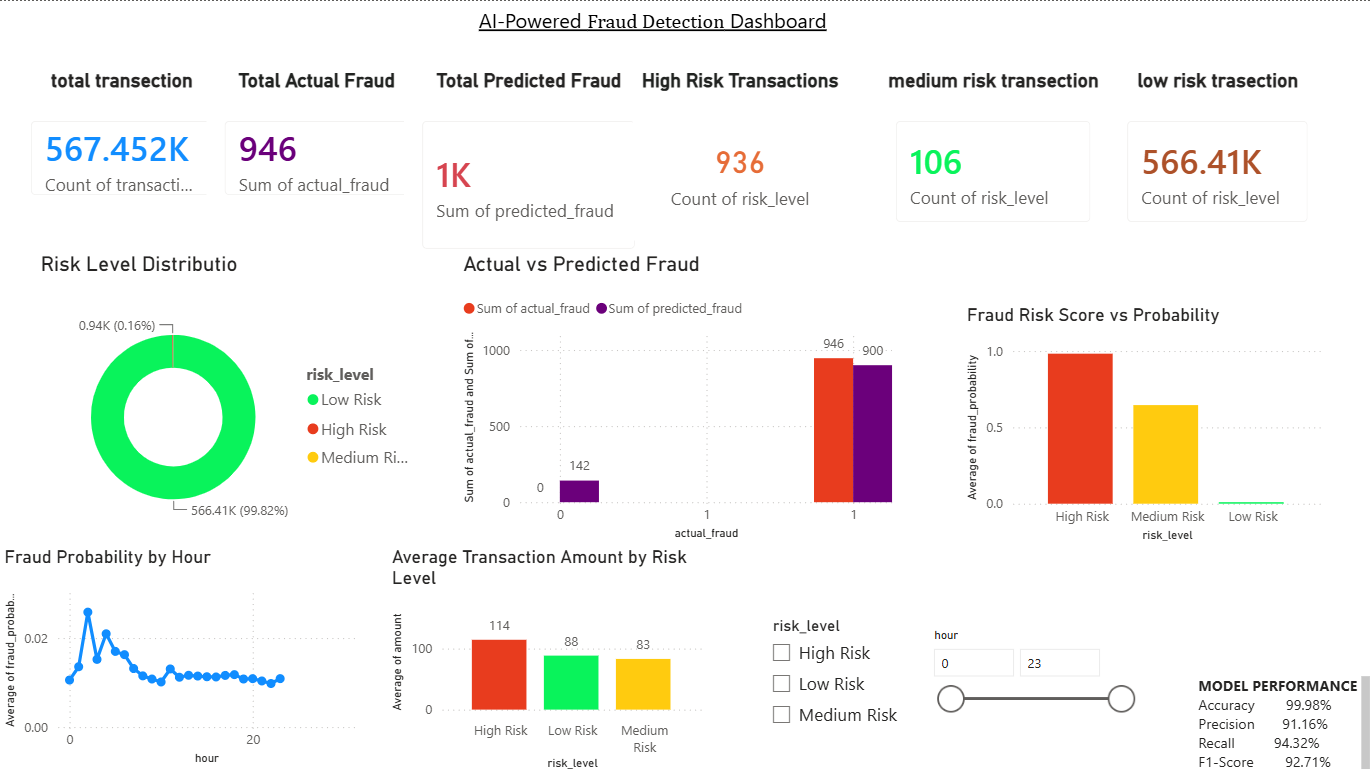

Layout of this report page (visuals, bound fields, positions):
{"tool":"powerbi","page":{"name":"Page 1","canvas":[1280,720],"ordinal":0},"visuals":[{"type":"cardVisual","title":"total transection","fields":{"Data":["CountNonNull(fraud_detection transactions.transaction_id)"]},"box":[12.5,62.3,202.9,135.3],"z":0},{"type":"cardVisual","title":"Total Actual Fraud","fields":{"Data":["Sum(fraud_detection transactions.actual_fraud)"]},"box":[192.5,62.5,205,135],"z":1000},{"type":"cardVisual","title":"Total Predicted Fraud","fields":{"Data":["Sum(fraud_detection transactions.predicted_fraud)"]},"box":[377.3,62.3,232.5,185],"z":2000},{"type":"card","title":"High Risk Transactions","fields":{"Values":["CountNonNull(fraud_detection transactions.risk_level)"]},"box":[589.1,62.3,200,160],"z":3000},{"type":"cardVisual","title":"medium risk transection","fields":{"Data":["CountNonNull(fraud_detection transactions.risk_level)"]},"box":[816.9,62.3,215.4,160.2],"z":4000},{"type":"cardVisual","title":"low risk trasection","fields":{"Data":["CountNonNull(fraud_detection transactions.risk_level)"]},"box":[1032.5,62.5,202.5,160],"z":5000},{"type":"donutChart","title":"Risk Level Distributio","fields":{"Category":["fraud_detection transactions.risk_level"],"Y":["CountNonNull(fraud_detection transactions.transaction_id)"]},"box":[33.8,233.2,363.1,274.1],"z":6000},{"type":"clusteredColumnChart","title":"Actual vs Predicted Fraud","fields":{"Y":["Sum(fraud_detection transactions.actual_fraud)","Sum(fraud_detection transactions.predicted_fraud)"],"Category":["fraud_detection transactions.actual_fraud"]},"box":[427.1,233.2,409.4,272.3],"z":7000},{"type":"lineChart","title":"Fraud Probability by Hour","fields":{"Category":["fraud_detection transactions.hour"],"Y":["Avg(fraud_detection transactions.fraud_probability)"]},"box":[0,507.2,336.4,208.2],"z":8000},{"type":"clusteredColumnChart","title":"Fraud Risk Score vs Probability","fields":{"Category":["fraud_detection transactions.risk_level"],"Y":["Avg(fraud_detection transactions.fraud_probability)"]},"box":[895.2,281.2,339.9,226],"z":9000},{"type":"slicer","fields":{"Values":["fraud_detection transactions.risk_level"]},"box":[707.5,567.5,176.2,149.5],"z":10000},{"type":"slicer","fields":{"Values":["fraud_detection transactions.hour"]},"box":[857.5,577.5,208.2,138.8],"z":11000},{"type":"clusteredColumnChart","title":"Average Transaction Amount by Risk Level","fields":{"Y":["Avg(fraud_detection transactions.amount)"],"Category":["fraud_detection transactions.risk_level"]},"box":[360,507.5,299,213],"z":12000},{"type":"textbox","box":[380,0,455.7,37.1],"z":13000},{"type":"textbox","box":[1110,622.9,170,97.1],"z":14000}]}

Visuals, with their boxes in screenshot pixels (x1, y1, x2, y2), scaled from the page's 1280x720 canvas onto the 1371x774 screenshot:
"total transection" cardVisual: 13:67:231:212
"Total Actual Fraud" cardVisual: 206:67:426:212
"Total Predicted Fraud" cardVisual: 404:67:653:266
"High Risk Transactions" card: 631:67:845:239
"medium risk transection" cardVisual: 875:67:1106:239
"low risk trasection" cardVisual: 1106:67:1323:239
"Risk Level Distributio" donutChart: 36:251:425:545
"Actual vs Predicted Fraud" clusteredColumnChart: 457:251:896:543
"Fraud Probability by Hour" lineChart: 0:545:360:769
"Fraud Risk Score vs Probability" clusteredColumnChart: 959:302:1323:545
slicer - fraud_detection transactions.risk_level: 758:610:947:771
slicer - fraud_detection transactions.hour: 918:621:1141:770
"Average Transaction Amount by Risk Level" clusteredColumnChart: 386:546:706:773
textbox: 407:0:895:40
textbox: 1189:670:1370:773
